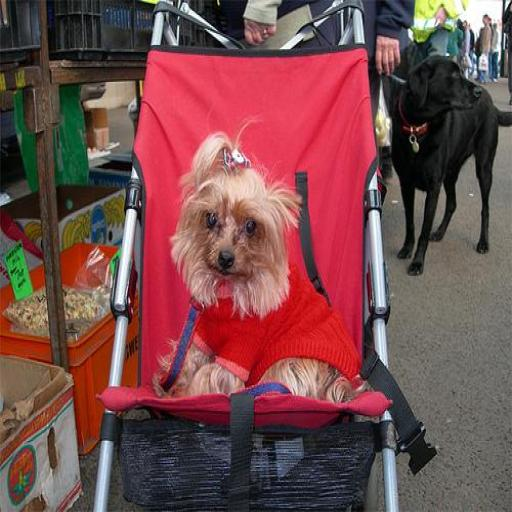dog_face: (177, 174, 289, 305)
